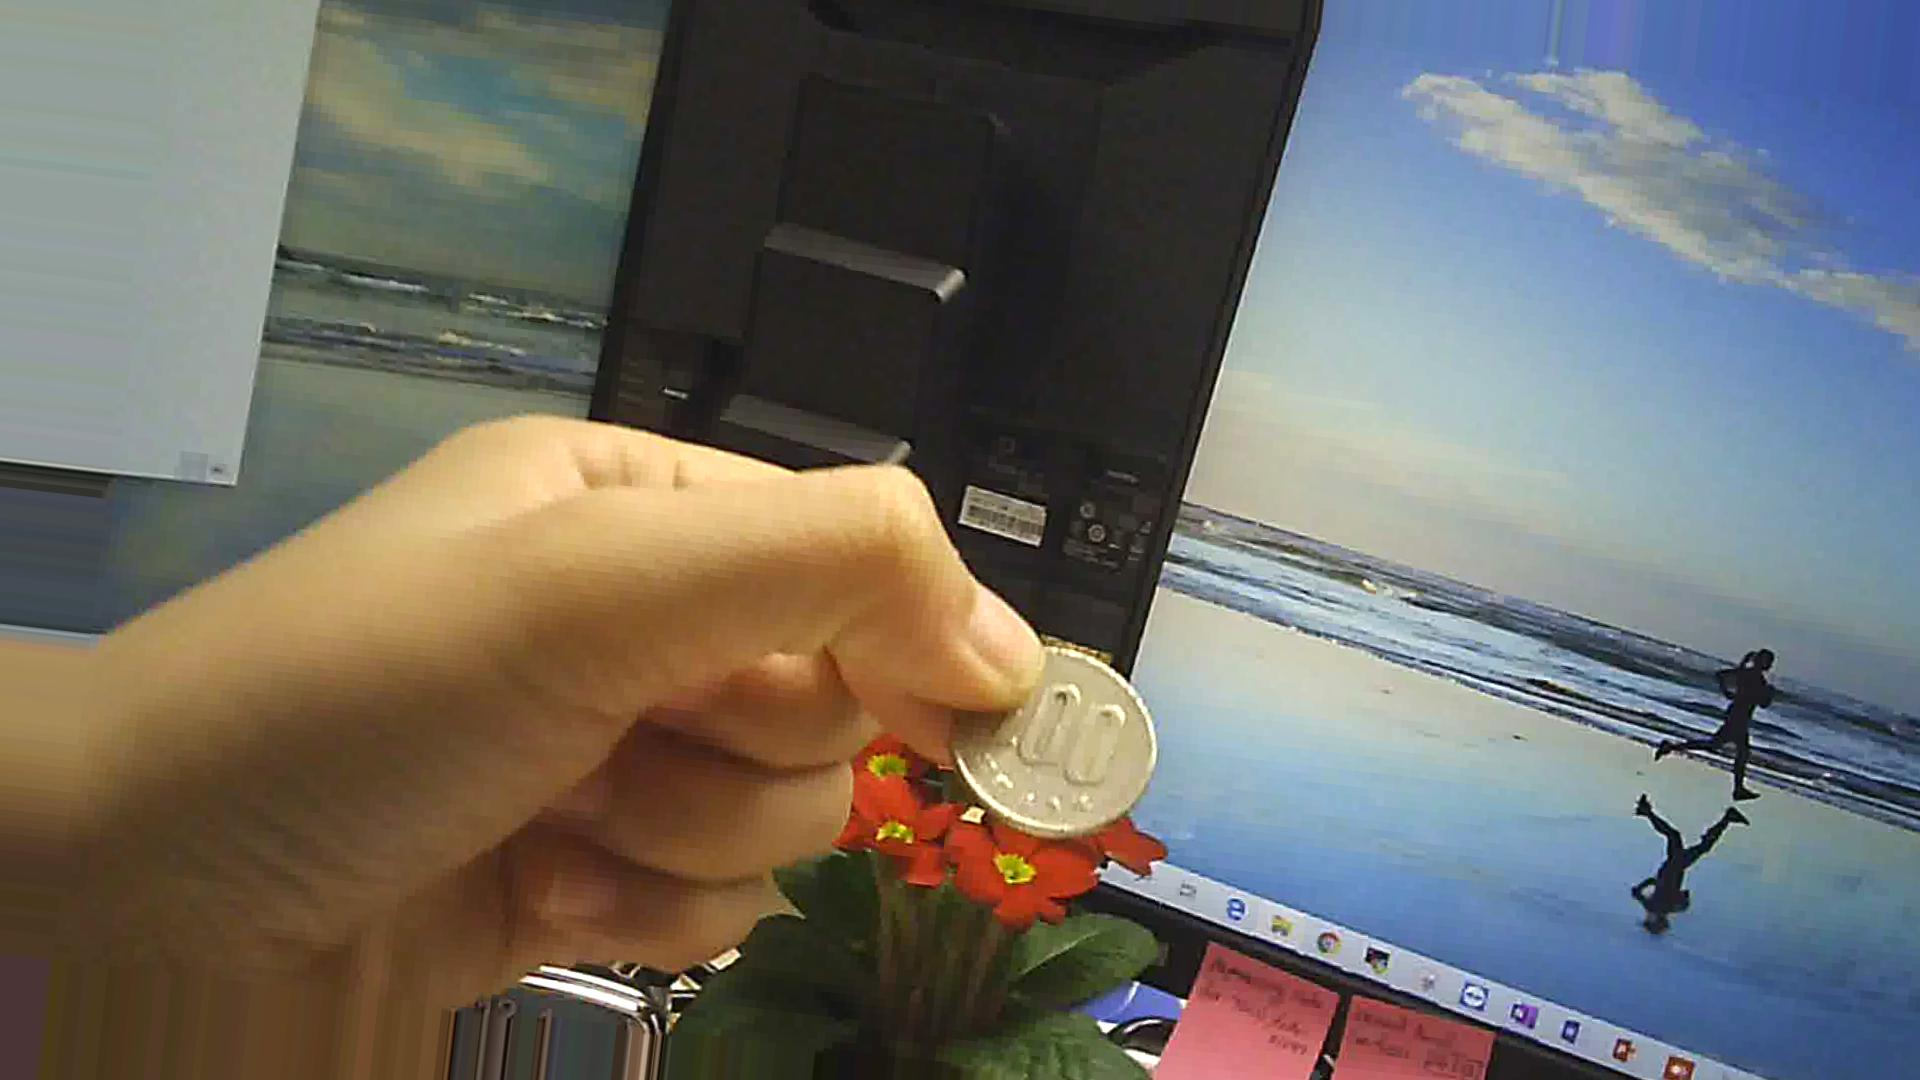100 Yen: (924, 624, 1168, 840)
